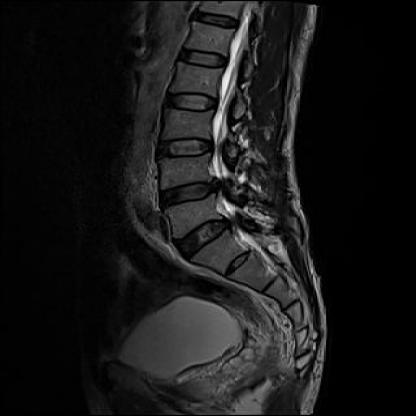Disc Bulgerotation: (167, 216, 239, 252)
